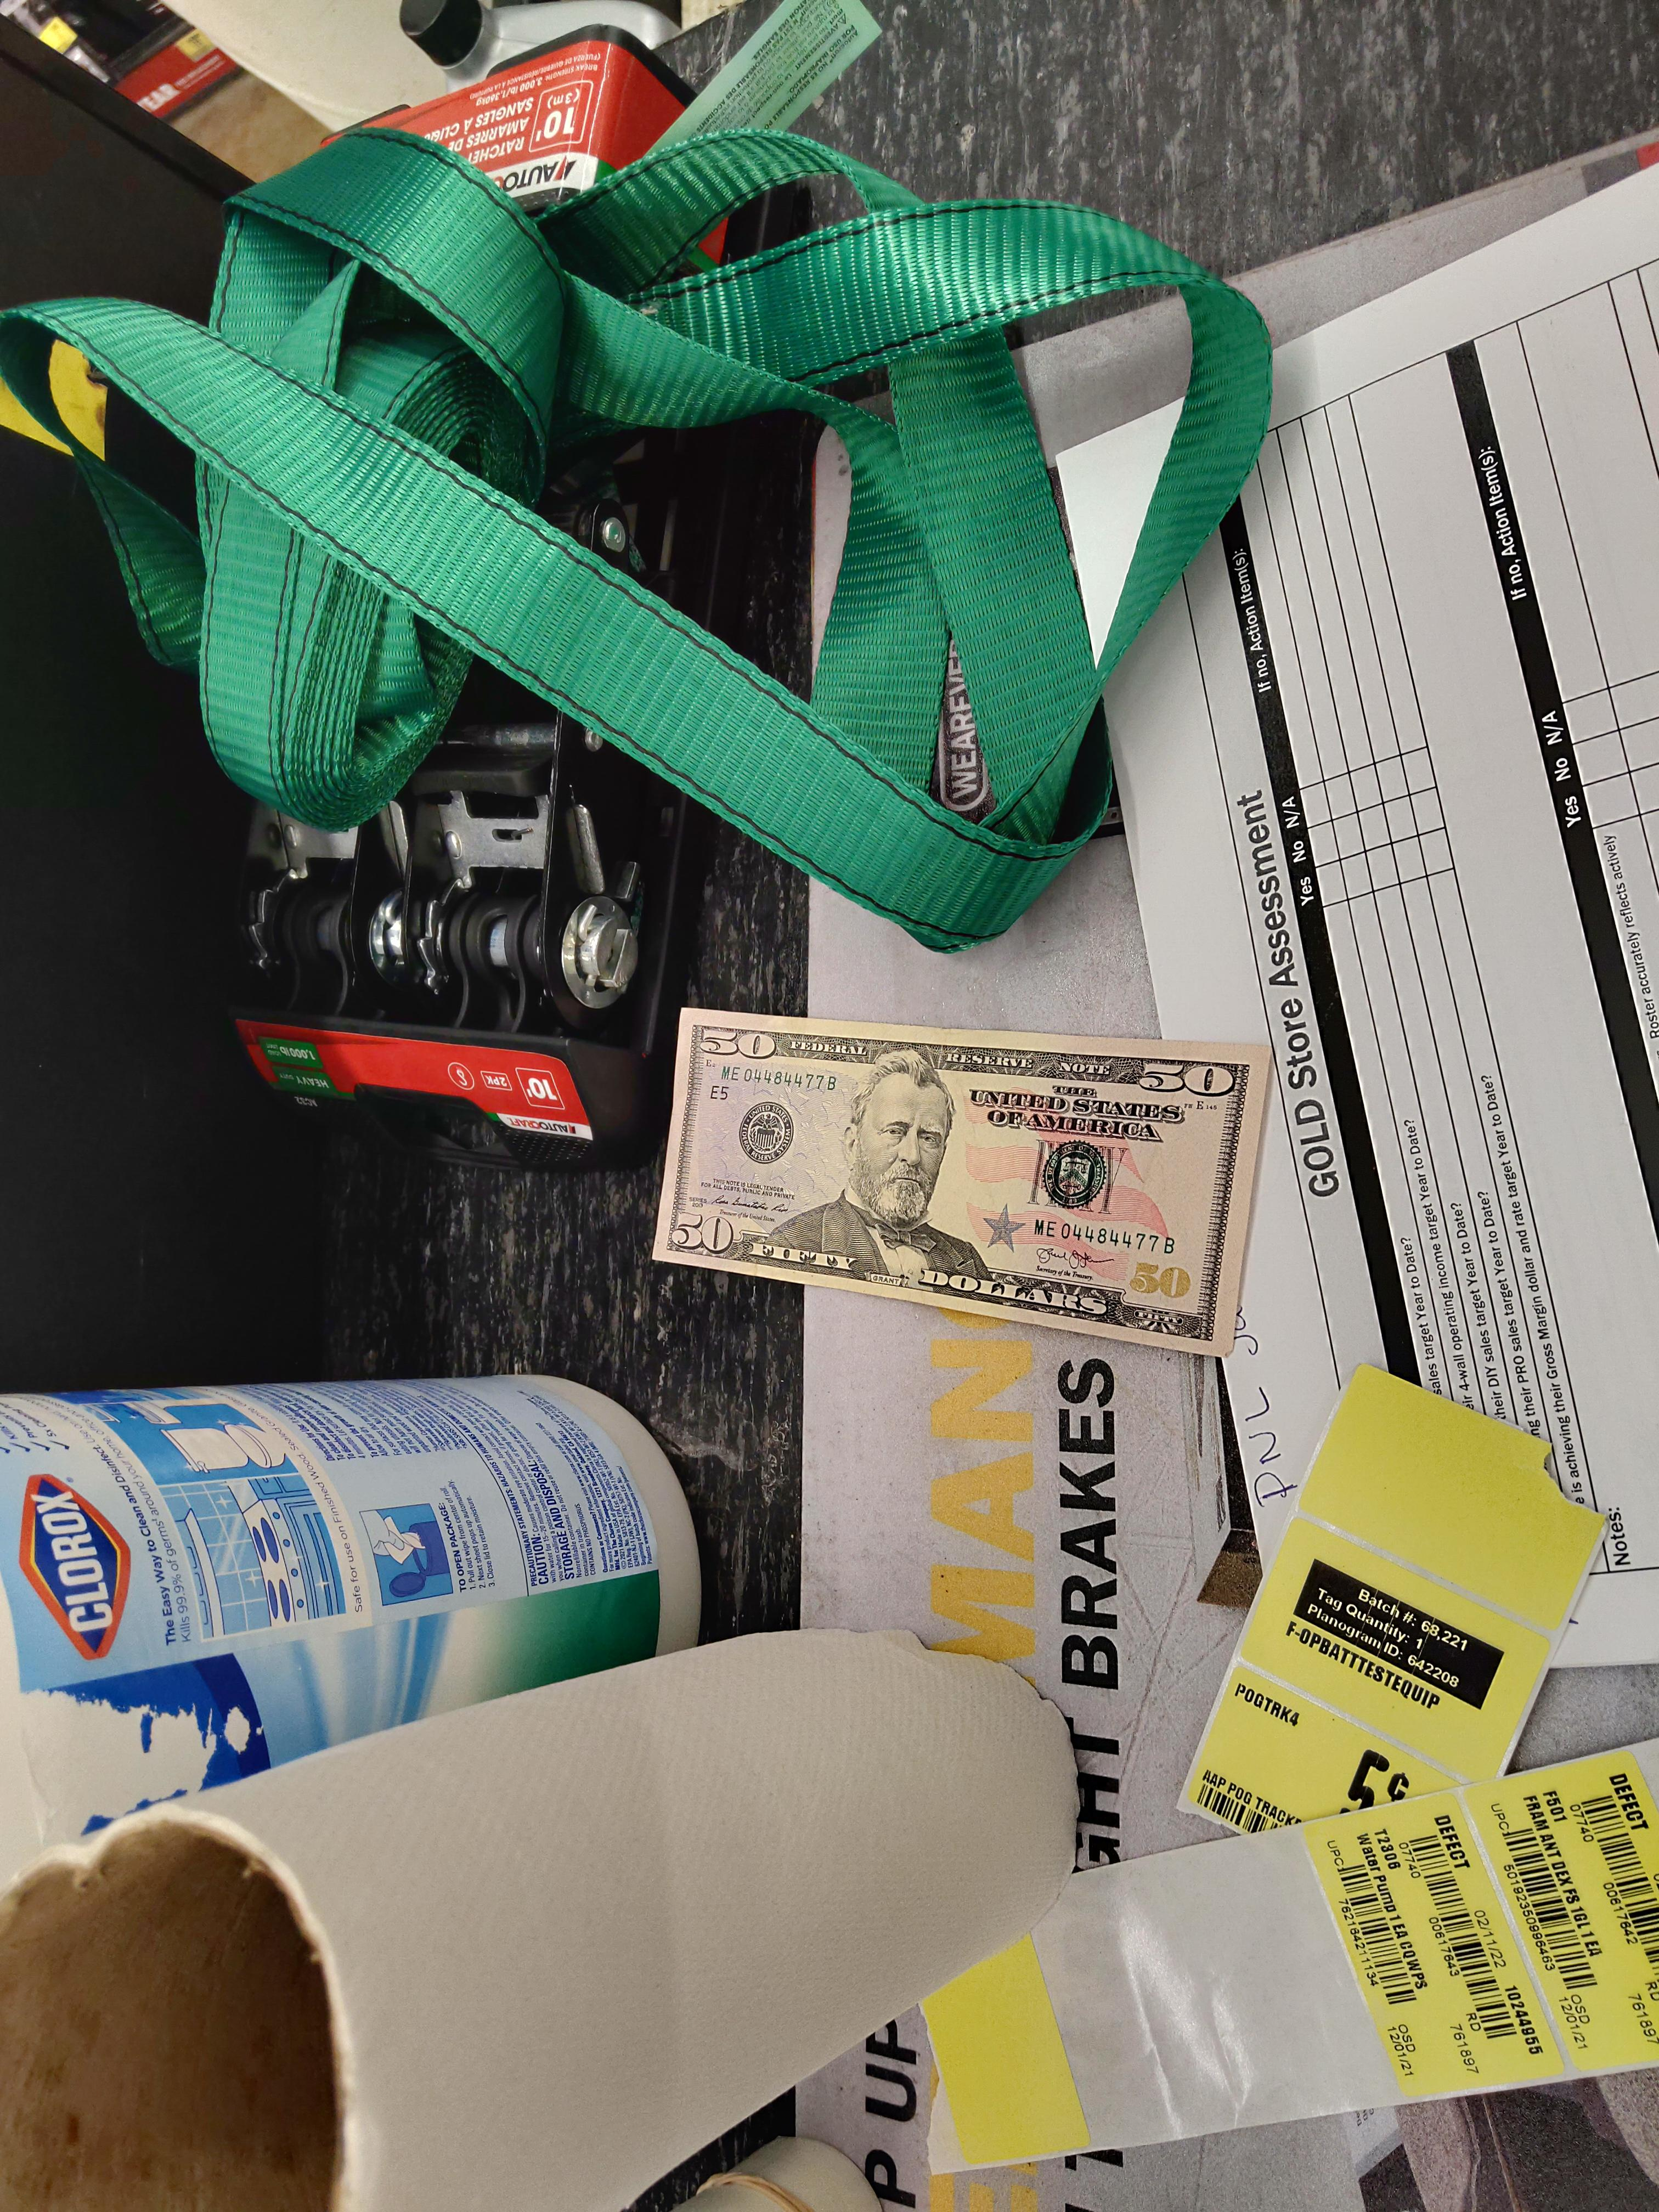FiftyBill: (647, 1005, 1274, 1355)
